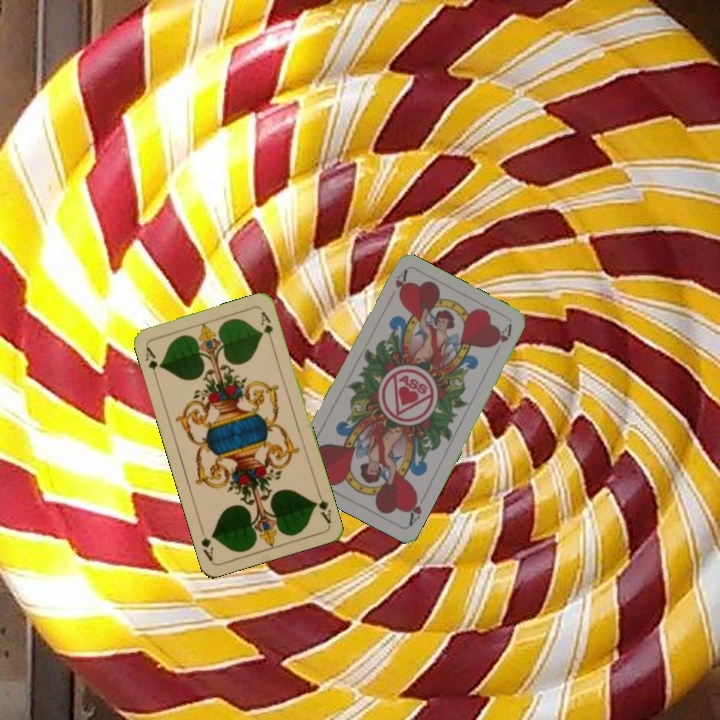GA: (310, 487, 334, 526), (141, 342, 164, 381)
HA: (403, 489, 429, 528), (391, 266, 410, 300)
